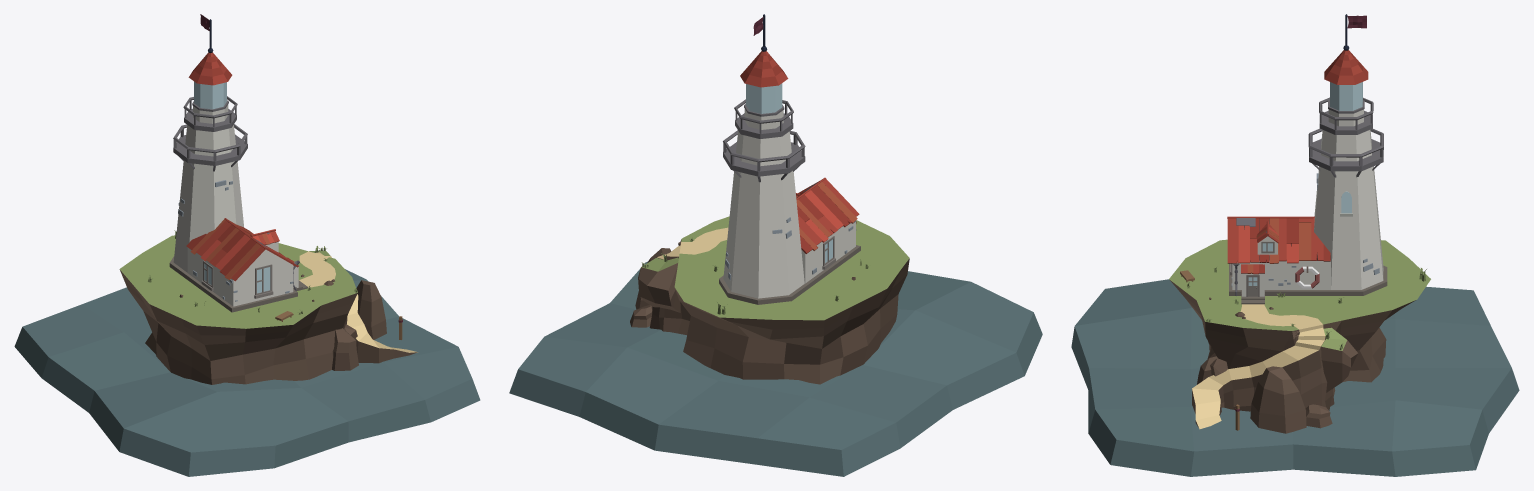
The model's file is Lighthouse.fbx.
3 views of the same model, side by side, from view 1: azimuth 30°, elevation 25°; view 2: azimuth 150°, elevation 25°; view 3: azimuth 270°, elevation 25° (orthographic). The views are drawn at different scales.
Visible parts, largest first — view 1: Cube.036, Cube.001, Cylinder, Cube.002, Cylinder.031, Cylinder.033, Cylinder.009, Cube.028, Cylinder.001, Cylinder.004, Cylinder.002; view 2: Cube.036, Cube.001, Cylinder, Cube.127, Cube.002, Cube.028, Cylinder.009, Cylinder.001, Cylinder.004, Cylinder.002; view 3: Cube.036, Cube.001, Cylinder, Cylinder.031, Cube.002, Cube.127, Cylinder.009, Cylinder.001, Cube.028, Cylinder.004, Cylinder.002, Cube.038 (+3 smaller).
Part boxes in pixels (box(x1,y1,x2,y2)): Cube.036: box(14, 269, 480, 476); Cube.001: box(119, 235, 417, 384); Cylinder: box(173, 125, 244, 272); Cube.002: box(187, 247, 293, 306); Cylinder.031: box(356, 280, 386, 339); Cylinder.033: box(332, 328, 358, 370); Cylinder.009: box(188, 52, 232, 85); Cube.028: box(169, 256, 297, 312); Cylinder.001: box(173, 134, 247, 165); Cylinder.004: box(194, 81, 226, 109); Cylinder.002: box(184, 108, 236, 131); Cube.036: box(509, 261, 1042, 476); Cube.001: box(649, 216, 909, 384); Cylinder: box(723, 131, 804, 298); Cube.127: box(638, 257, 680, 312); Cube.002: box(801, 222, 855, 283); Cube.028: box(719, 245, 860, 304); Cylinder.009: box(740, 51, 788, 87); Cylinder.001: box(723, 142, 805, 176); Cylinder.004: box(746, 83, 782, 113); Cylinder.002: box(735, 113, 793, 138); Cube.036: box(1071, 279, 1519, 476); Cube.001: box(1169, 239, 1430, 429); Cylinder: box(1314, 129, 1383, 289); Cylinder.031: box(1250, 366, 1306, 433); Cube.002: box(1232, 219, 1330, 289); Cube.127: box(1321, 327, 1358, 392); Cylinder.009: box(1324, 50, 1368, 84); Cylinder.001: box(1309, 139, 1383, 171); Cube.028: box(1229, 263, 1387, 295); Cylinder.004: box(1330, 82, 1362, 110); Cylinder.002: box(1319, 110, 1372, 134); Cube.038: box(1227, 218, 1238, 263).
Bounding box in the file's own units: 25.41 × 23.87 × 26.42.
